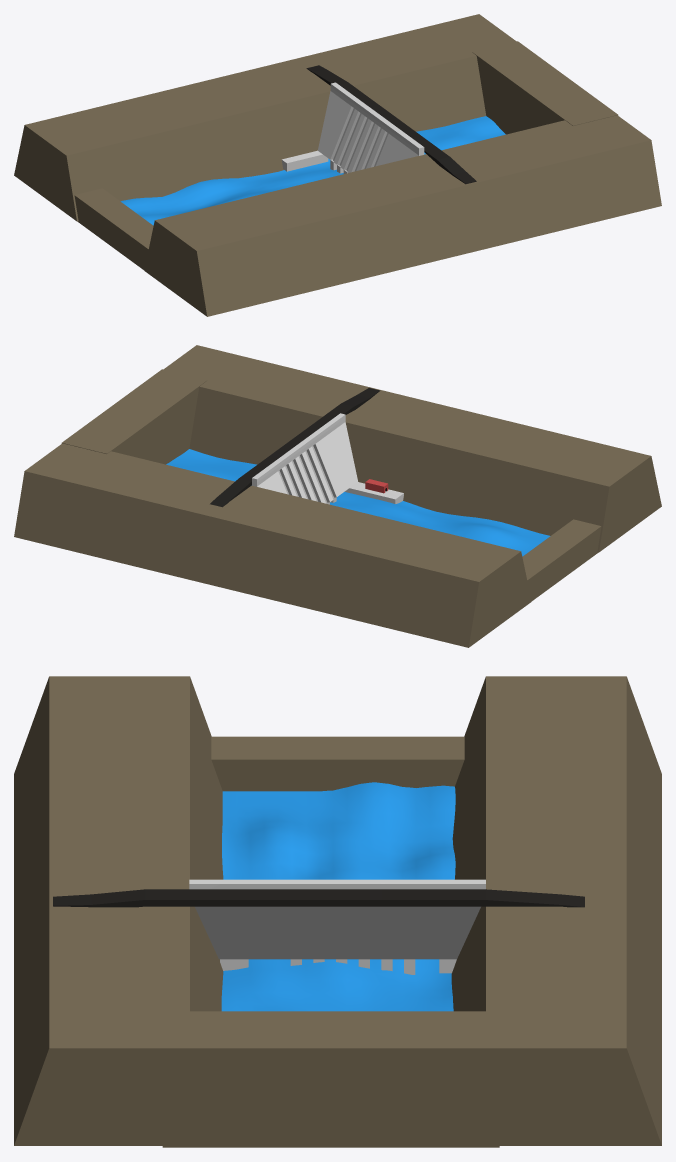
File: hidraulica.FBX
The picture shows the model from 3 angles, top to bottom: view 1: azimuth 30°, elevation 25°; view 2: azimuth 150°, elevation 25°; view 3: azimuth 270°, elevation 25°; orthographic projection. The views are drawn at different scales.
Visible parts, largest first — view 1: Box003, Box001, Plane001; view 2: Box003, Box001, Plane001; view 3: Box003, Plane001, Box001.
Part boxes in pixels (x1,y1,x2,y2): Box003: (14, 14, 661, 316); Box001: (281, 65, 476, 184); Plane001: (120, 116, 505, 225); Box003: (14, 345, 661, 647); Box001: (210, 388, 403, 507); Plane001: (166, 449, 550, 556); Box003: (14, 676, 661, 1147); Plane001: (221, 782, 455, 1011); Box001: (53, 879, 584, 974).
Bounding box in the file's own units: 512 × 376 × 72.19.
